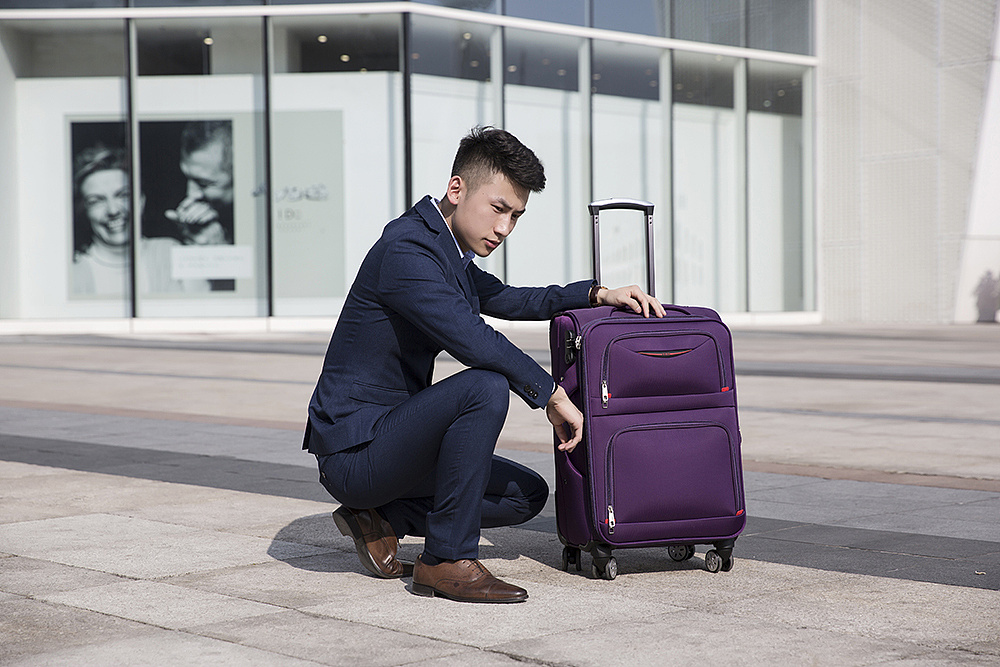box: (550, 303, 747, 550)
lock: (564, 330, 577, 365)
wheel: (705, 549, 734, 573), (590, 556, 619, 579), (561, 544, 582, 572), (668, 544, 696, 562)
